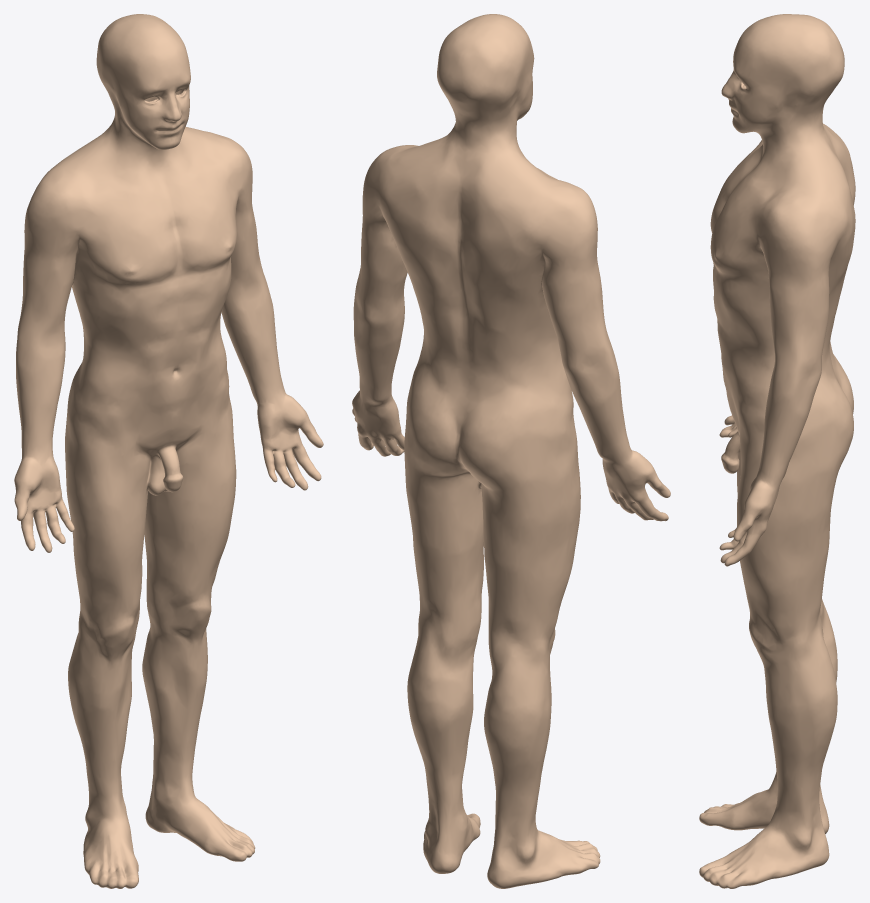
The model's file is skin.pelvis.glb.
3 views of the same model, side by side, from view 1: azimuth 30°, elevation 25°; view 2: azimuth 150°, elevation 25°; view 3: azimuth 270°, elevation 25° (orthographic). The views are drawn at different scales.
Visible parts, largest first — view 1: skin; view 2: skin; view 3: skin.
Boxes of the visible parts, <box> form: skin: <box>14,14,323,888</box>; skin: <box>352,14,670,888</box>; skin: <box>699,14,855,888</box>.
Size of the model in its own units: 0.6669 by 1.72 by 0.292.
